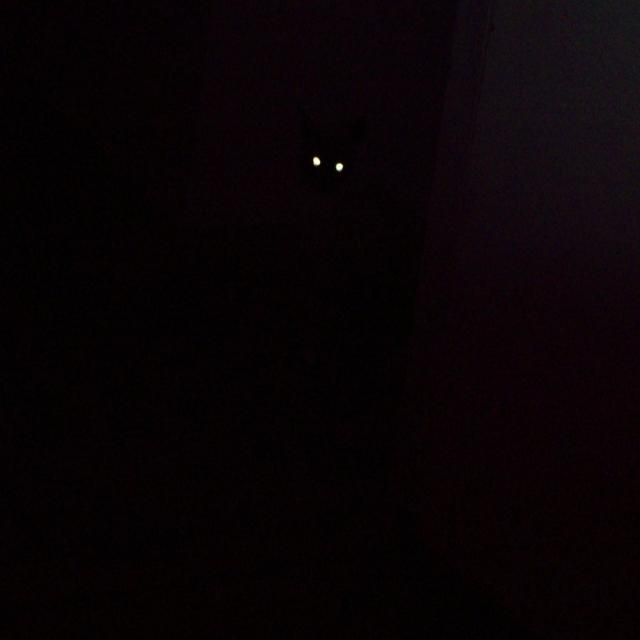Cat: (295, 87, 379, 276)
